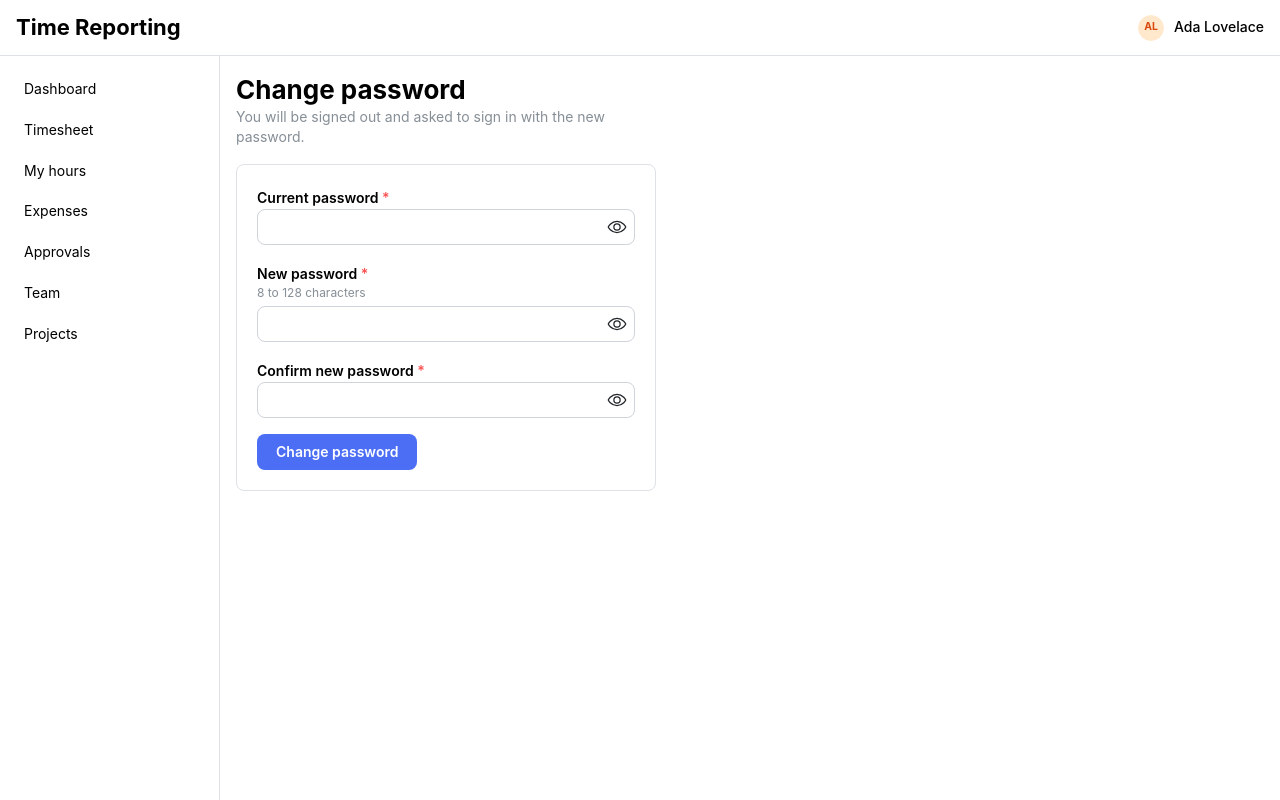
Test: account menu › shows the signed-in user and signs out
The image size is (1280, 800).
Expected: the heading "Time Reporting" is shown, [16,12,181,43]
Click the button with aria-label "Account menu" at (1201, 28), box [1138,14,1264,40]
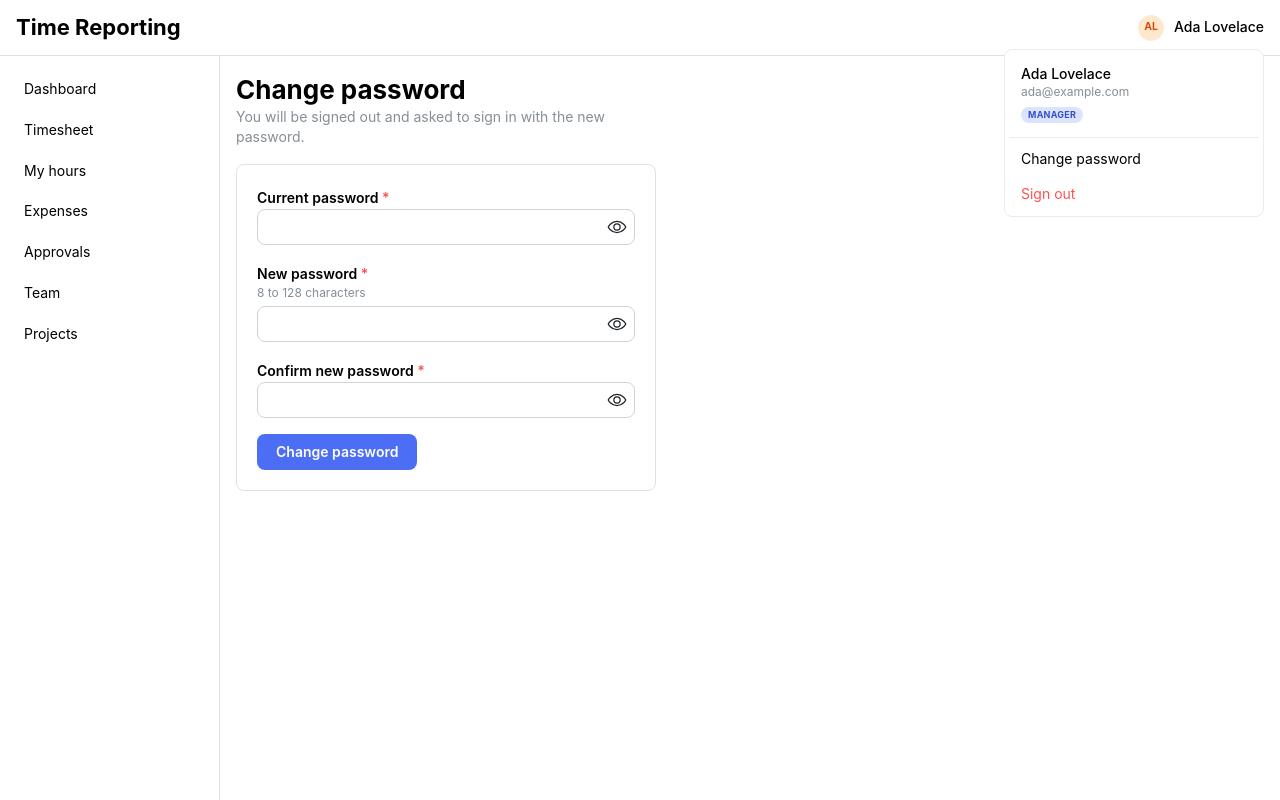
Result: the text "ada@example.com" is shown at [1021,84,1129,99]
Result: the text "Manager" is shown at [1028,108,1076,122]
Click the menu item "Sign out" at (1134, 194), box [1009,177,1259,212]
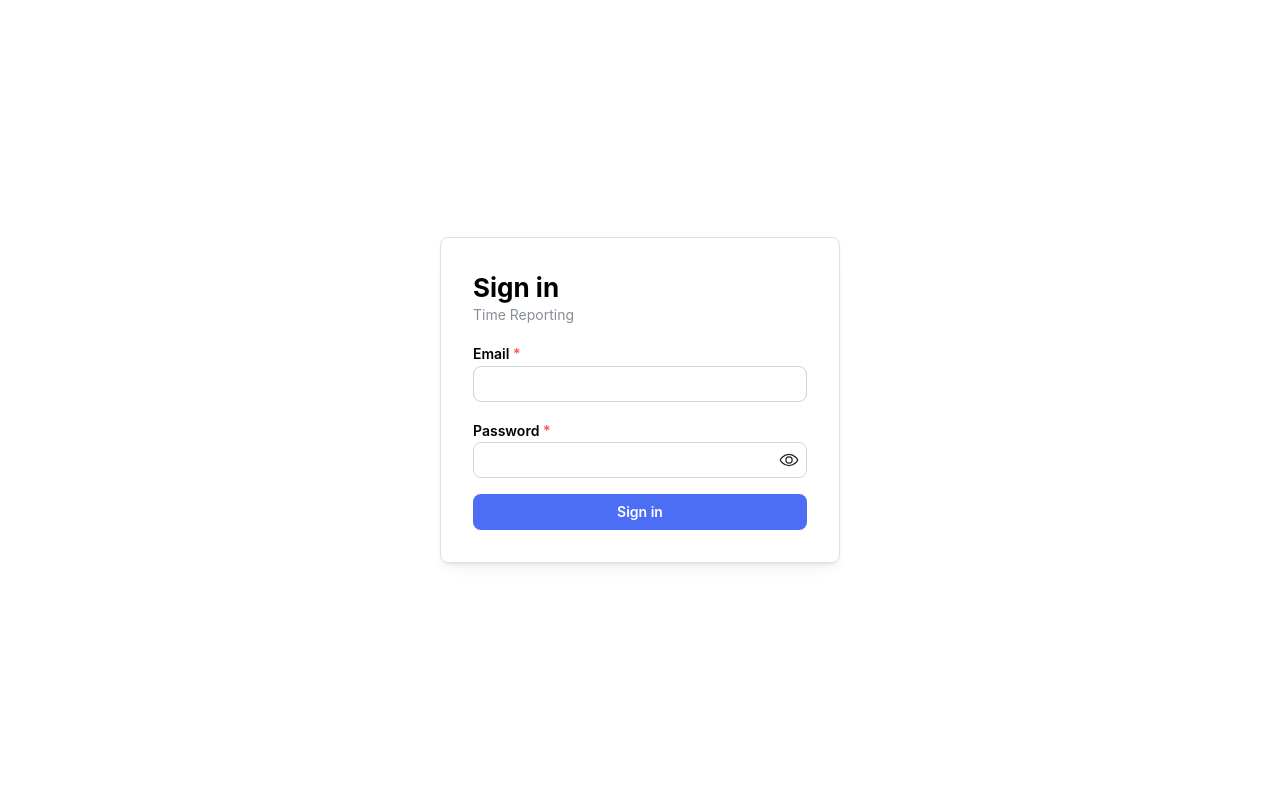
Result: the heading "Sign in" is shown at [473,272,559,302]
